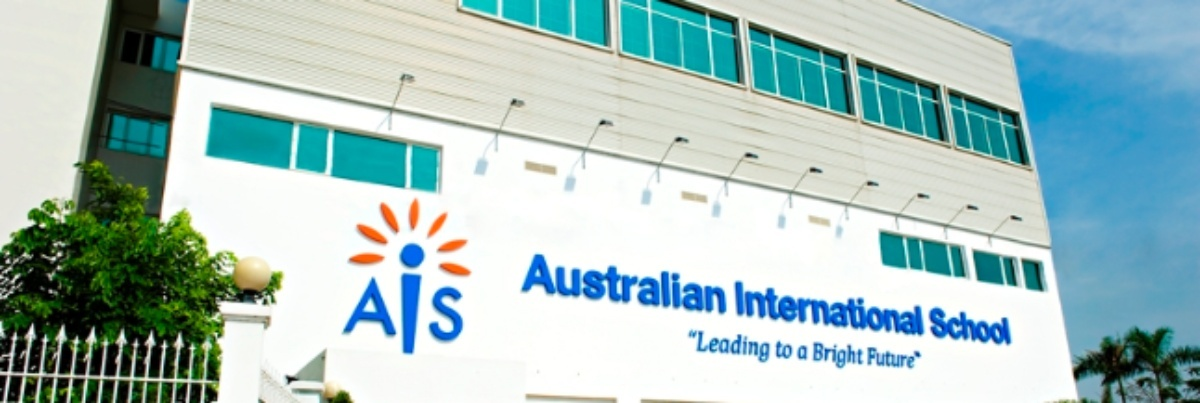text: (353, 235, 368, 355), (369, 235, 384, 355), (385, 235, 400, 355), (401, 235, 416, 355), (417, 235, 432, 355), (433, 235, 448, 355), (449, 235, 464, 355), (340, 235, 352, 355), (529, 251, 544, 316), (545, 251, 560, 316), (561, 251, 576, 316), (577, 251, 592, 316), (593, 251, 608, 316), (609, 251, 624, 316), (625, 251, 640, 316), (641, 251, 656, 316), (657, 251, 672, 316), (673, 251, 688, 316), (689, 251, 704, 316), (705, 251, 720, 316), (737, 277, 752, 335), (753, 277, 768, 335), (769, 277, 784, 335), (785, 277, 800, 335), (801, 277, 816, 335), (817, 277, 832, 335), (833, 277, 848, 335), (849, 277, 864, 335), (865, 277, 880, 335), (881, 277, 896, 335), (897, 277, 912, 335), (913, 277, 924, 335), (929, 305, 944, 346), (945, 305, 960, 346), (961, 305, 976, 346), (977, 305, 992, 346), (993, 305, 1008, 346), (465, 235, 470, 355), (689, 327, 704, 366), (705, 327, 720, 366), (721, 327, 736, 366), (737, 327, 752, 366), (753, 327, 768, 366), (817, 339, 832, 370), (833, 339, 848, 370), (849, 339, 864, 370), (522, 251, 528, 316), (721, 251, 727, 316), (865, 344, 880, 370), (881, 344, 896, 370), (897, 344, 912, 370), (731, 277, 736, 335), (771, 339, 784, 361), (913, 344, 924, 370), (769, 327, 775, 366), (809, 339, 816, 370), (785, 339, 794, 361), (1009, 305, 1013, 346), (684, 327, 688, 366), (801, 344, 809, 361), (794, 344, 800, 361), (927, 305, 928, 346)
